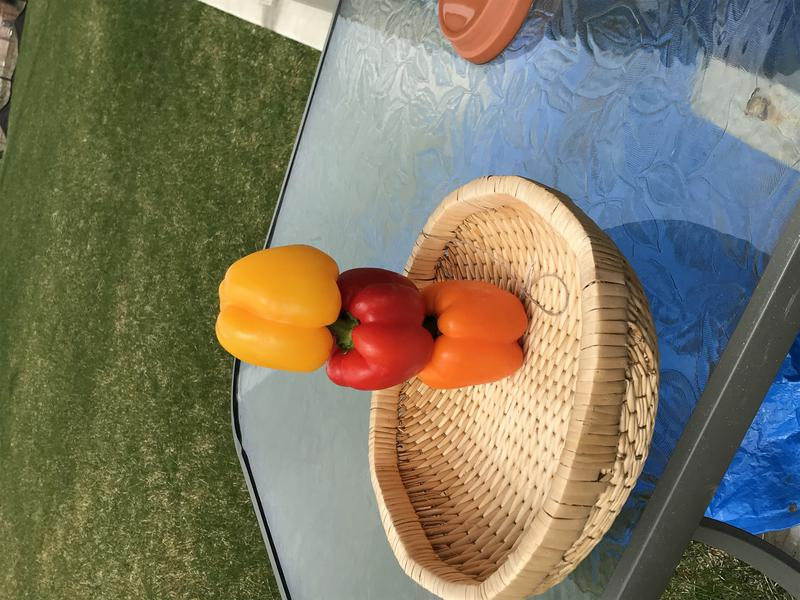orange_pepper: (411, 273, 534, 395)
red_pepper: (323, 259, 432, 399)
yellow_pepper: (208, 241, 345, 379)
